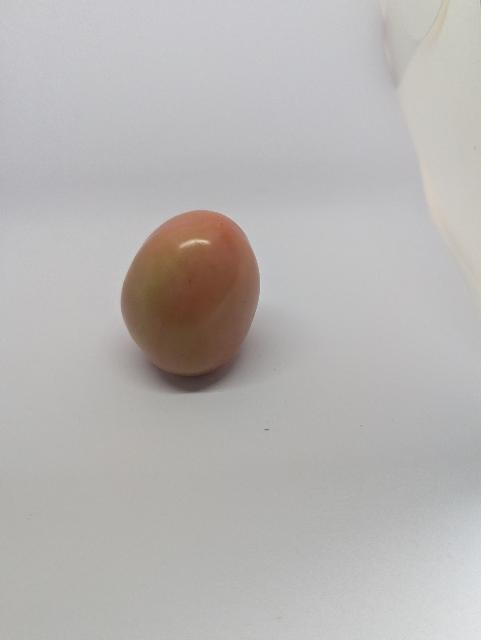turning: (121, 207, 265, 388)
